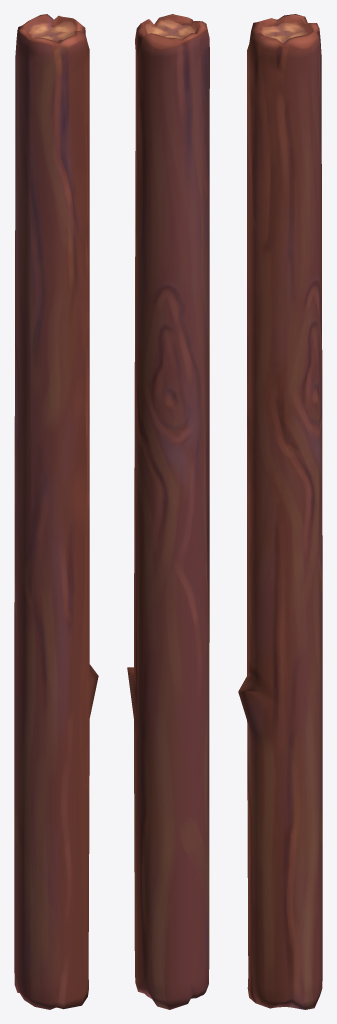
The model's file is Ship_Pole01_mesh.fbx.
3 views of the same model, side by side, from view 1: azimuth 90°, elevation 25°; view 2: azimuth 210°, elevation 25°; view 3: azimuth 270°, elevation 25° (orthographic).
Parts seen in each view (by area): view 1: Ship_Pole01_mesh; view 2: Ship_Pole01_mesh; view 3: Ship_Pole01_mesh.
Part boxes in pixels (x1=…): Ship_Pole01_mesh: x1=14, y1=14, x2=98, y2=1009; Ship_Pole01_mesh: x1=127, y1=14, x2=209, y2=1009; Ship_Pole01_mesh: x1=238, y1=14, x2=322, y2=1009.
Bounding box in the file's own units: 0.4622 × 6.55 × 0.5153.
